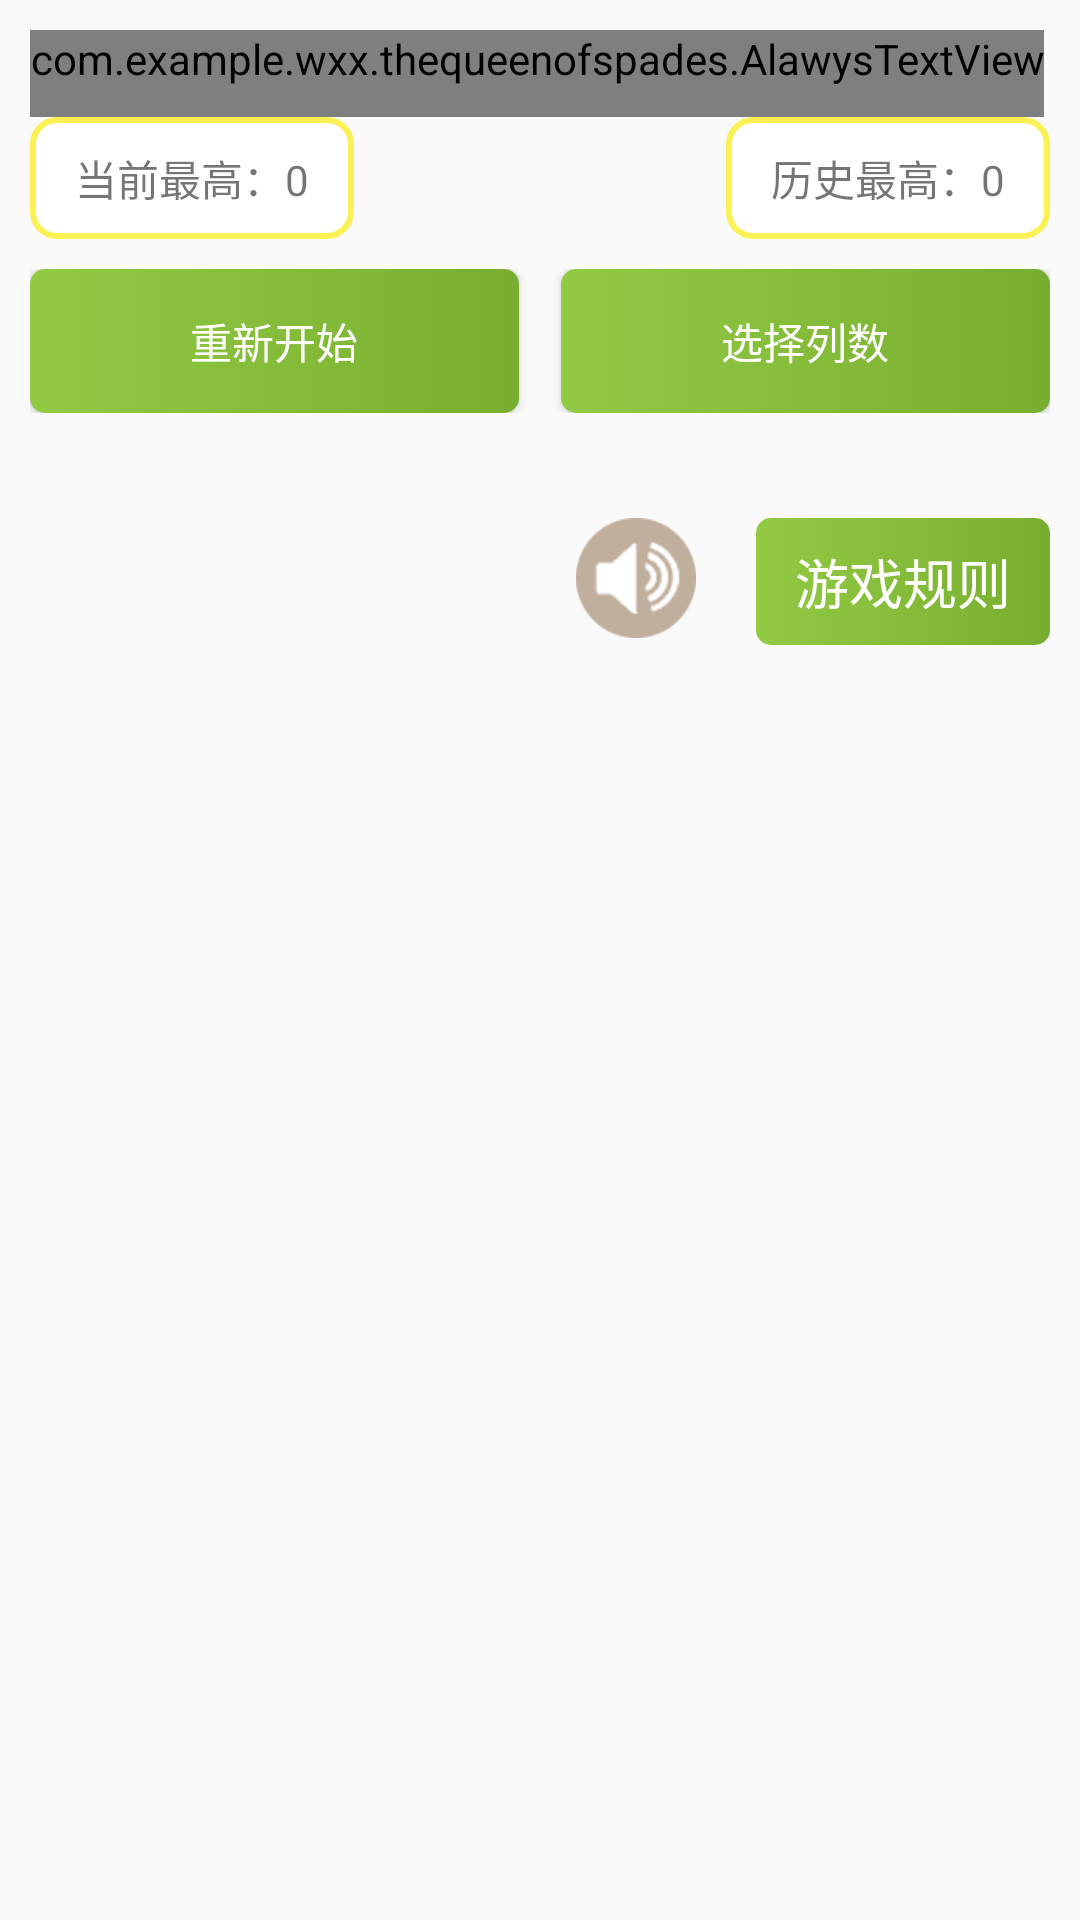

Icons on this 1080×1920 Android screen, each with its box as (x1, y1, x2, y2):
sound on: (576, 518, 696, 638)
